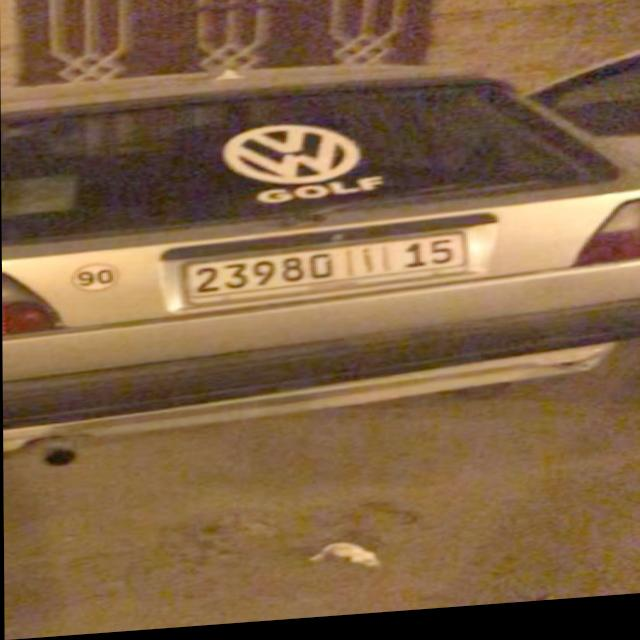License-Plate: (189, 242, 465, 300)
